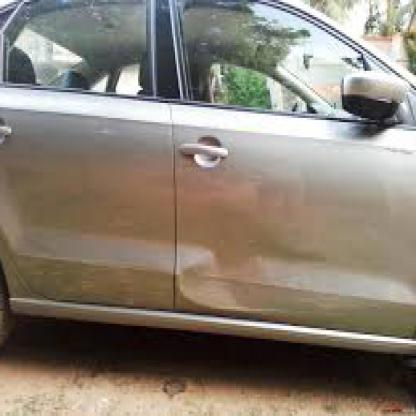dent: (177, 242, 303, 318)
